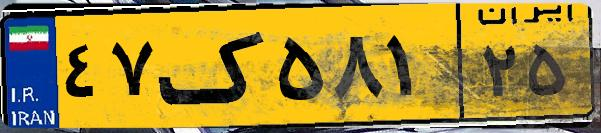1: (385, 28, 445, 110)
2: (475, 38, 525, 113)
4: (57, 26, 110, 100)
5: (270, 28, 330, 110), (525, 38, 570, 115)
7: (110, 28, 158, 98)
8: (330, 28, 385, 110)
ک: (158, 12, 270, 120)
